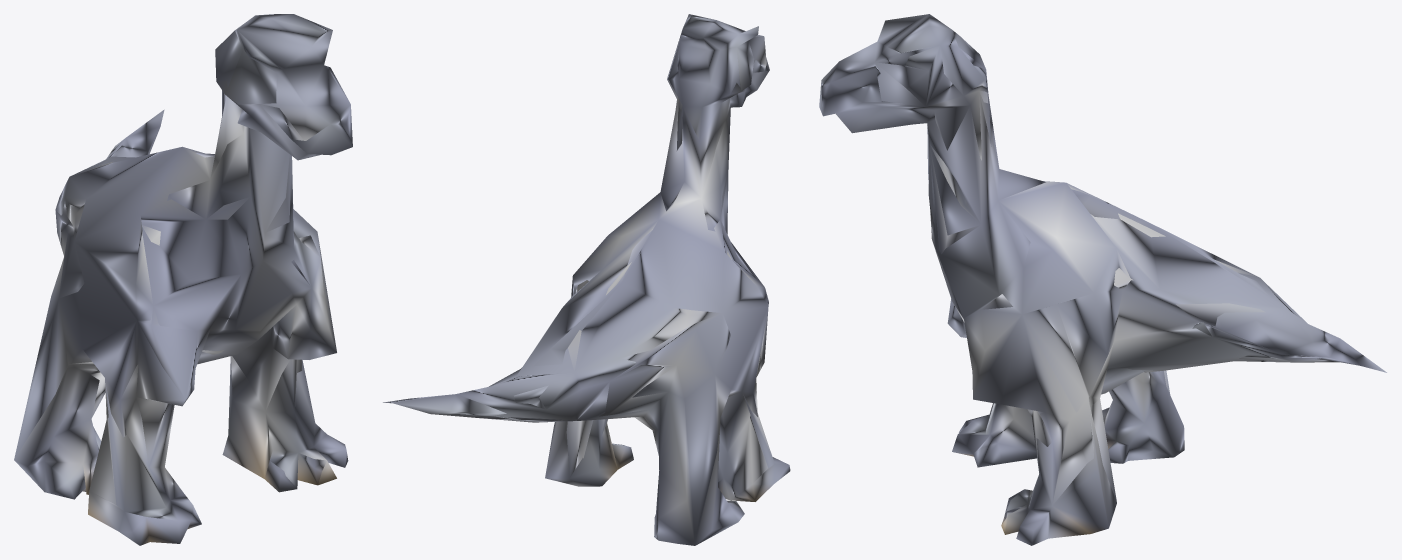
File: gen3d-brontosaurus-lod1.glb
3 renders of one model, left to right at view 1: azimuth 30°, elevation 25°; view 2: azimuth 150°, elevation 25°; view 3: azimuth 270°, elevation 25°, orthographic. The views are drawn at different scales.
Parts seen in each view (by area): view 1: part_0; view 2: part_0; view 3: part_0.
Part boxes in pixels (x1=…): part_0: x1=14, y1=14, x2=352, y2=545; part_0: x1=383, y1=14, x2=790, y2=545; part_0: x1=819, y1=14, x2=1386, y2=545.
Bounding box in the file's own units: 0.5653 × 0.9967 × 1.11.
